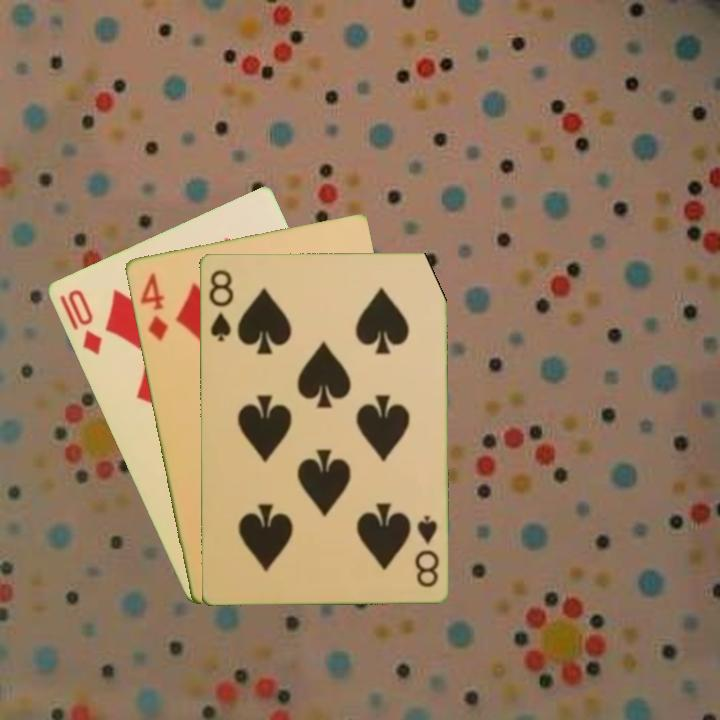10d: (55, 285, 105, 358)
4d: (136, 268, 170, 343)
8s: (205, 265, 236, 344), (411, 511, 442, 590)
